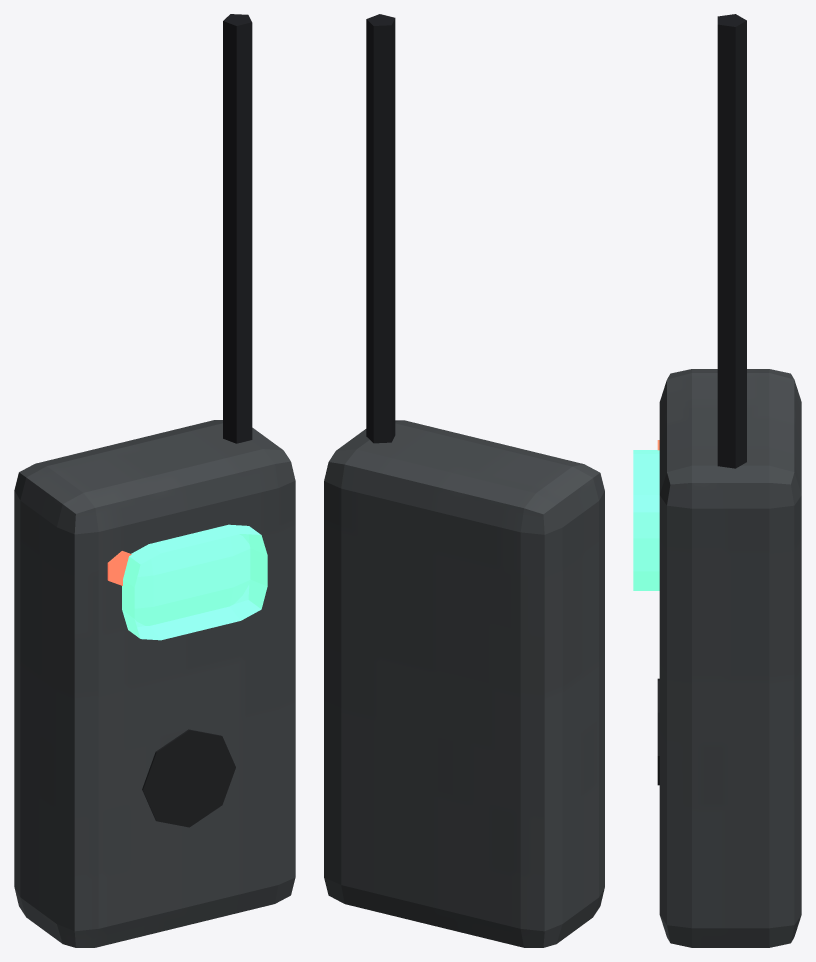
File: item_radio.glb
The picture shows the model from 3 angles, left to right: view 1: azimuth 30°, elevation 25°; view 2: azimuth 150°, elevation 25°; view 3: azimuth 270°, elevation 25°; orthographic projection. The views are drawn at different scales.
Parts seen in each view (by area): view 1: body; view 2: body; view 3: body.
Part boxes in pixels (x1=…): body: x1=14, y1=14, x2=295, y2=947; body: x1=324, y1=14, x2=604, y2=947; body: x1=633, y1=14, x2=801, y2=947.
Bounding box in the file's own units: 0.07 × 0.25 × 0.0415.
Materials: 5 (3 with a texture image).
